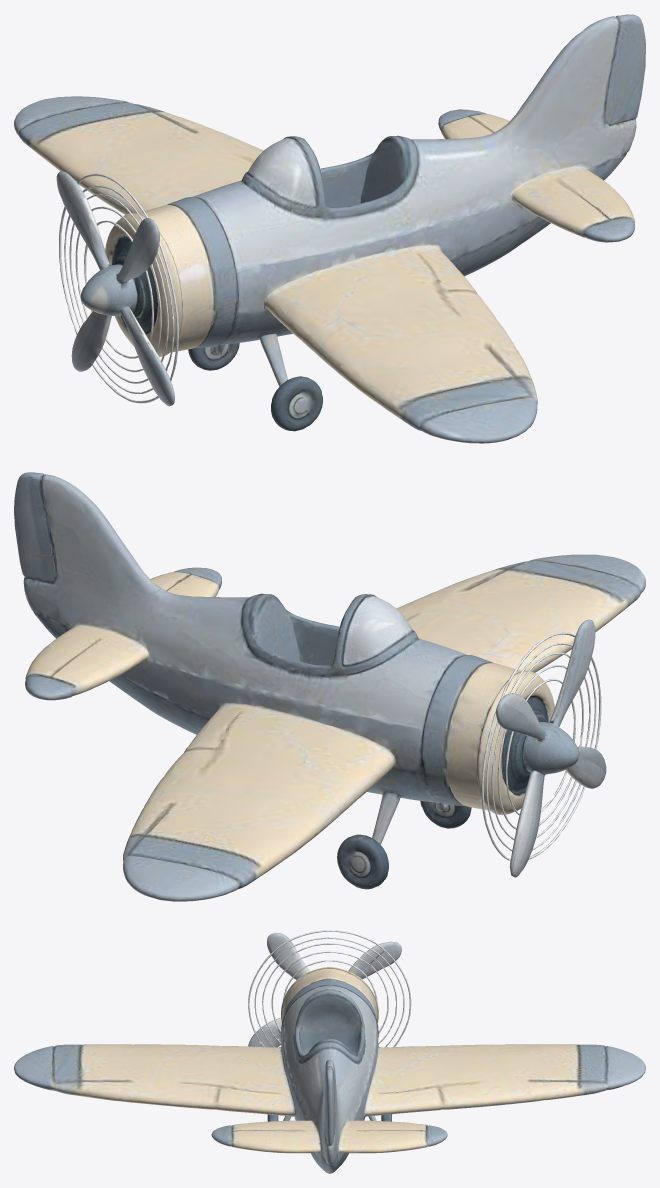
3 renders of one model, top to bottom at view 1: azimuth 30°, elevation 25°; view 2: azimuth 150°, elevation 25°; view 3: azimuth 270°, elevation 25°, orthographic. The views are drawn at different scales.
Visible parts, largest first — view 1: Mesh; view 2: Mesh; view 3: Mesh.
Boxes of the visible parts, left/top/right/bottom form: Mesh: left=14, top=14, right=645, bottom=443; Mesh: left=14, top=472, right=645, bottom=901; Mesh: left=14, top=930, right=645, bottom=1173.
Bounding box in the file's own units: 1.34 × 0.6736 × 1.9.
1 material, 1 textured.
